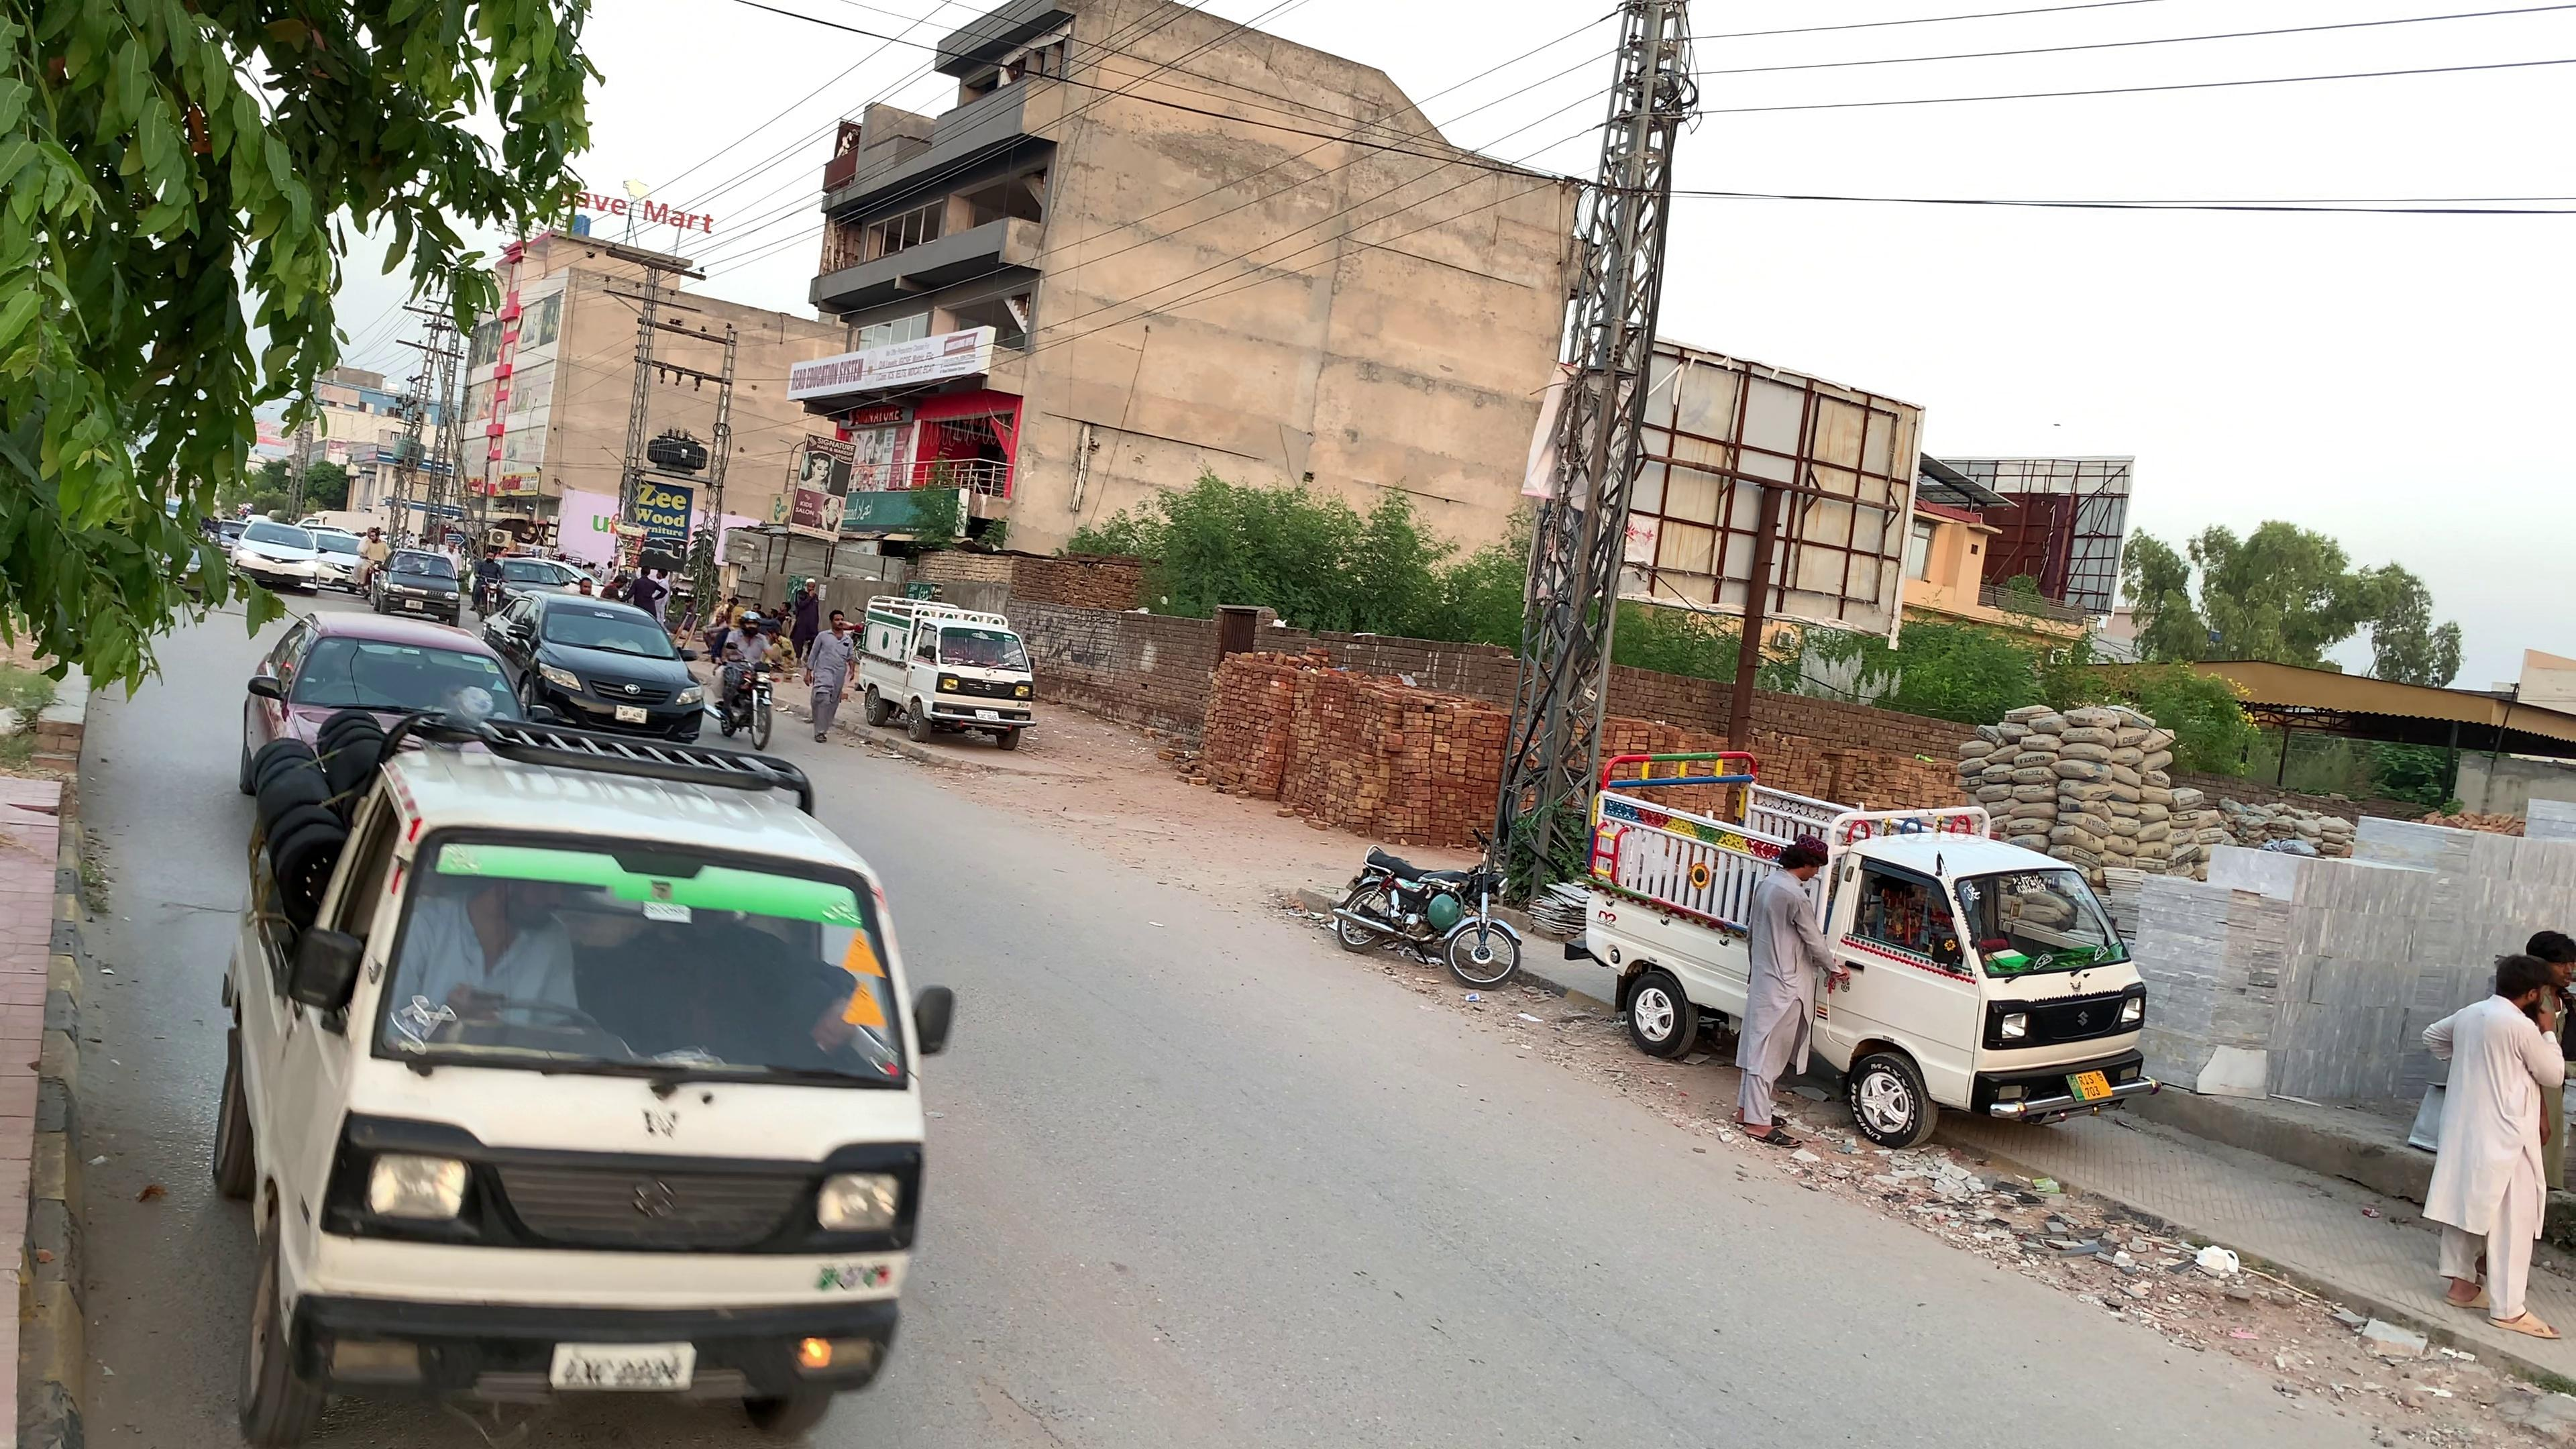windshield: (340, 812, 924, 1108)
